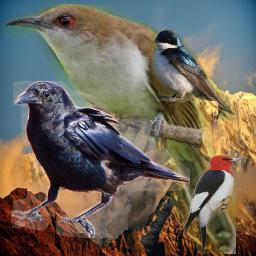Crow: (11, 81, 190, 238)
Cuckoo: (2, 4, 236, 254)
Swallow: (151, 29, 236, 124)
Woodpecker: (182, 154, 244, 254)
